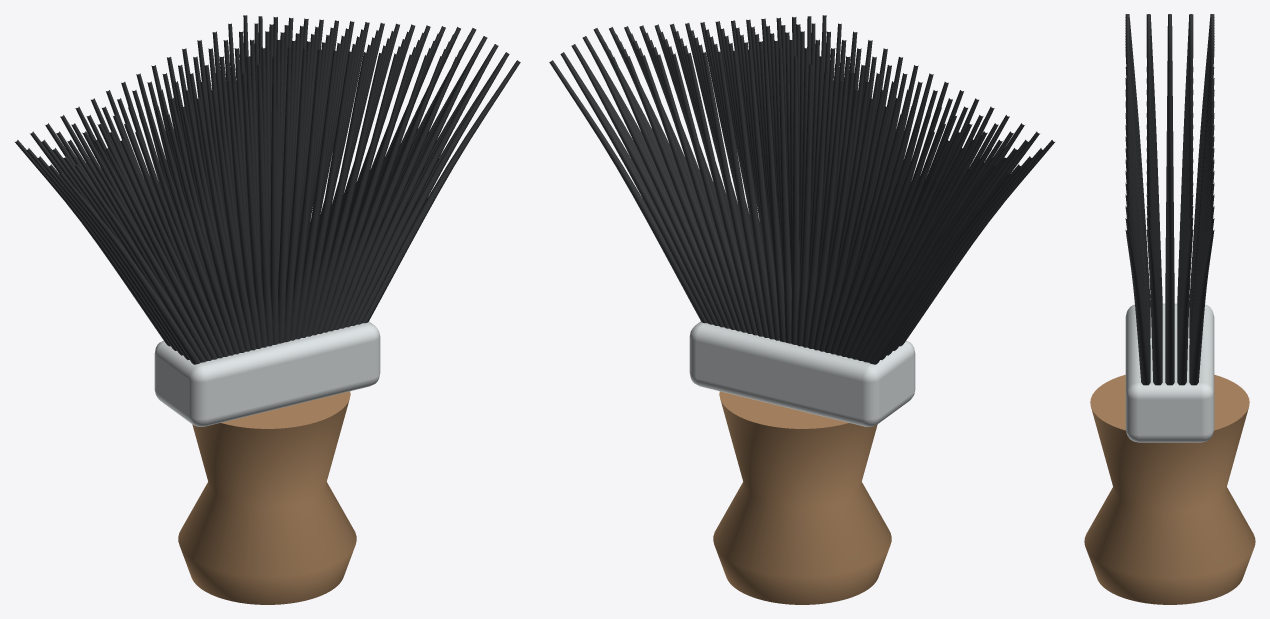
File: barbershop-and-hair-salon-neck-duster-538d67e8__29671.glb
The picture shows the model from 3 angles, left to right: view 1: azimuth 30°, elevation 25°; view 2: azimuth 150°, elevation 25°; view 3: azimuth 270°, elevation 25°; orthographic projection. The views are drawn at different scales.
Visible parts, largest first — view 1: neck-duster; view 2: neck-duster; view 3: neck-duster.
Boxes of the visible parts, x1,y1,x2,y2 form: neck-duster: (15,15,520,604); neck-duster: (549,15,1054,604); neck-duster: (1084,14,1255,604).
Bounding box in the file's own units: 0.173 × 0.194 × 0.058.
